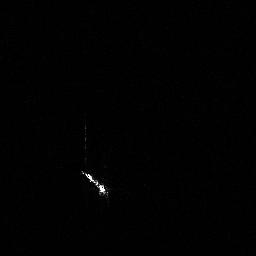ship: (77, 167, 112, 199)
